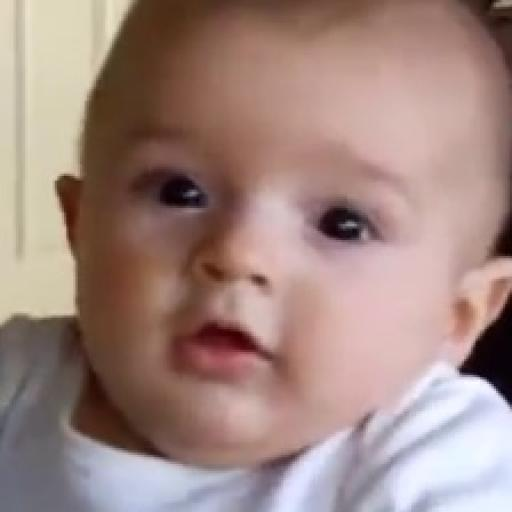Autism: (70, 18, 508, 434)
